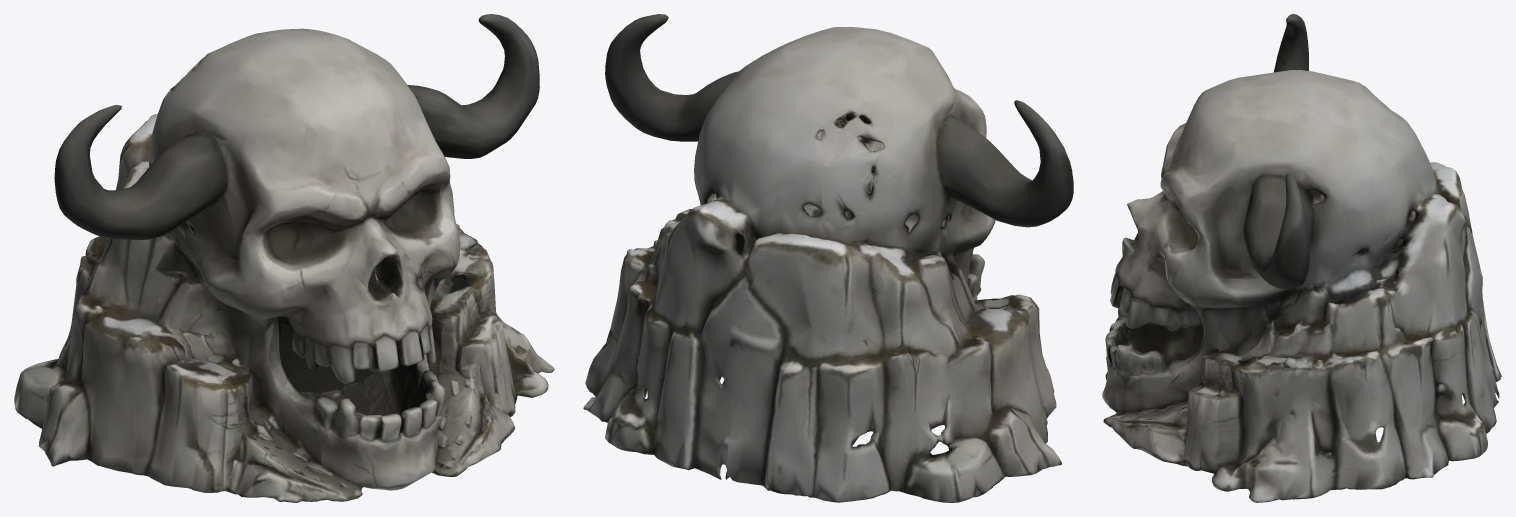
File: skull-island.opt.glb
3 renders of one model, left to right at view 1: azimuth 30°, elevation 25°; view 2: azimuth 150°, elevation 25°; view 3: azimuth 270°, elevation 25°, orthographic. The views are drawn at different scales.
Size of the model in its own units: 2 by 1.47 by 1.66.
1 material, 1 textured.
